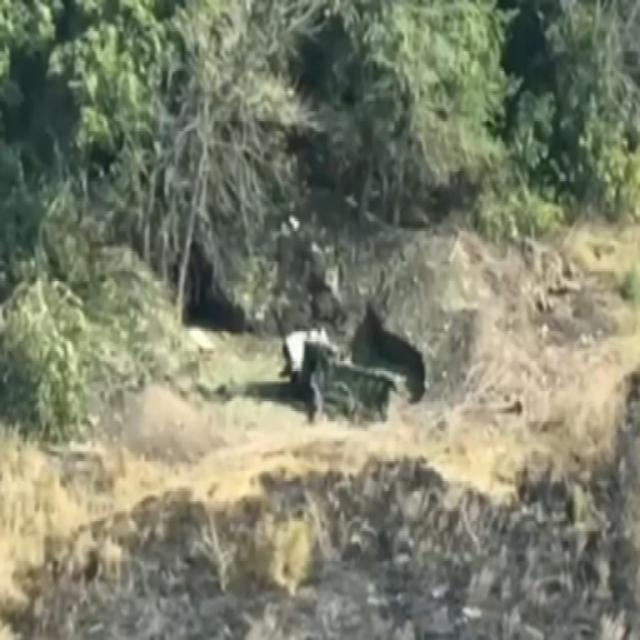ART: (280, 322, 402, 424)
